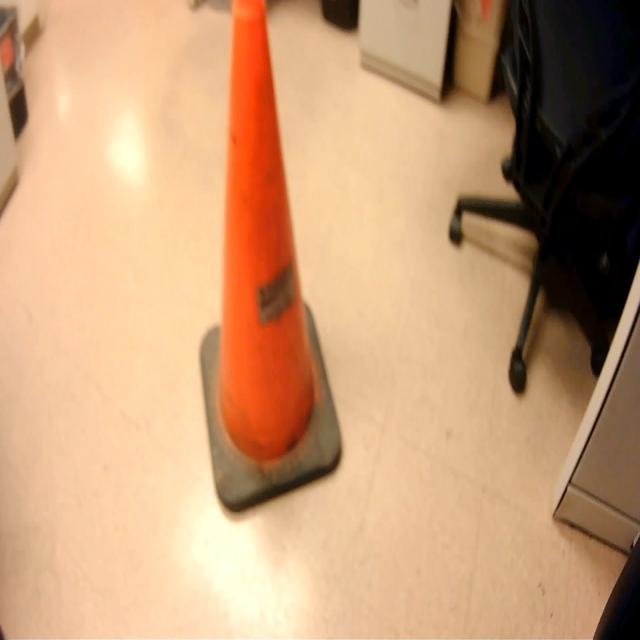traffic cone: (197, 1, 347, 525)
